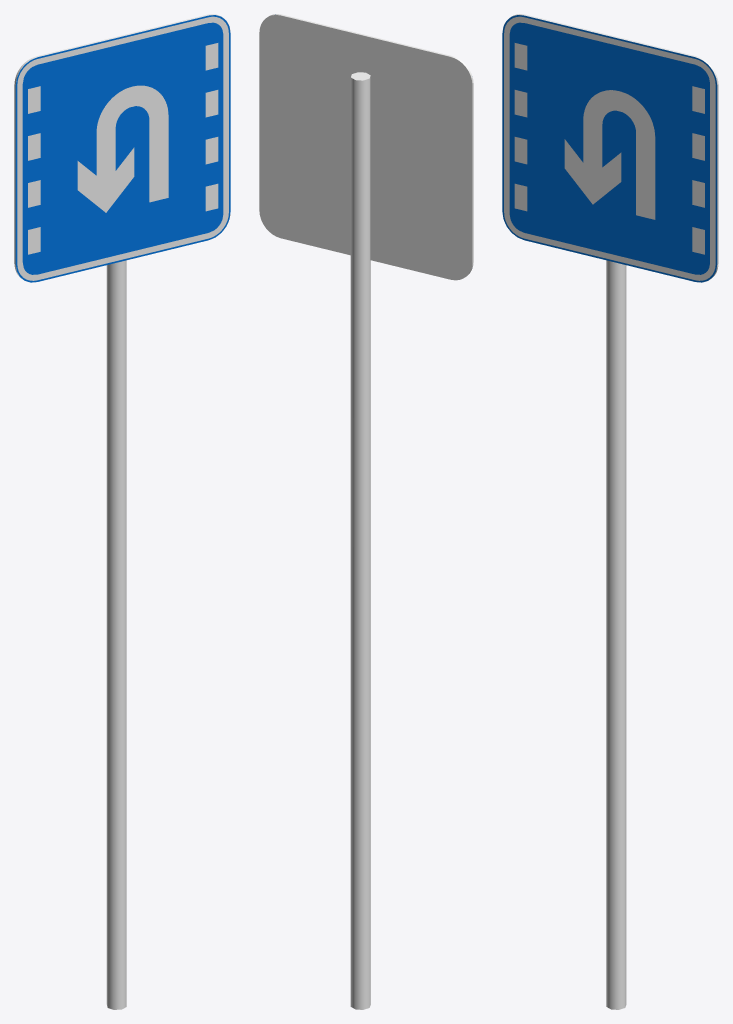
3 views of the same model, side by side, from view 1: azimuth 30°, elevation 25°; view 2: azimuth 150°, elevation 25°; view 3: azimuth 330°, elevation 25° (orthographic).
Visible parts, largest first — view 1: I25; view 2: I25; view 3: I25.
Part boxes in pixels (<box>): I25: <box>14,14,230,1009</box>; I25: <box>259,14,473,1009</box>; I25: <box>502,14,718,1009</box>.
Size of the model in its own units: 3.93 by 17.03 by 0.3683.
